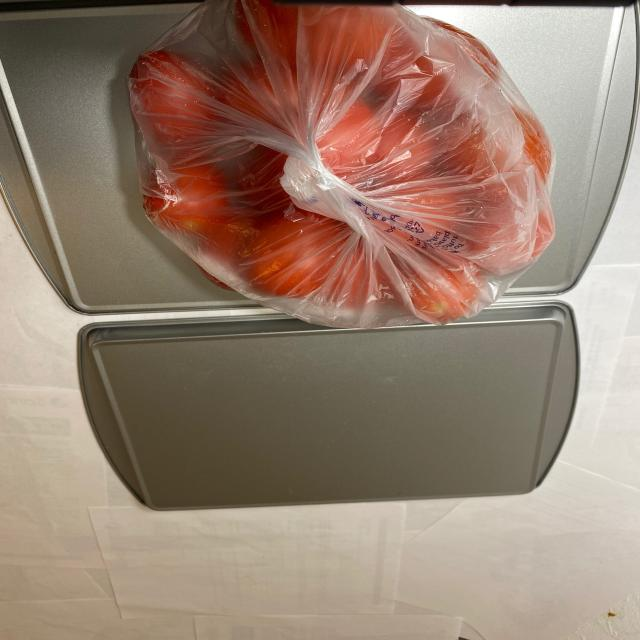tomato: (125, 1, 550, 319)
